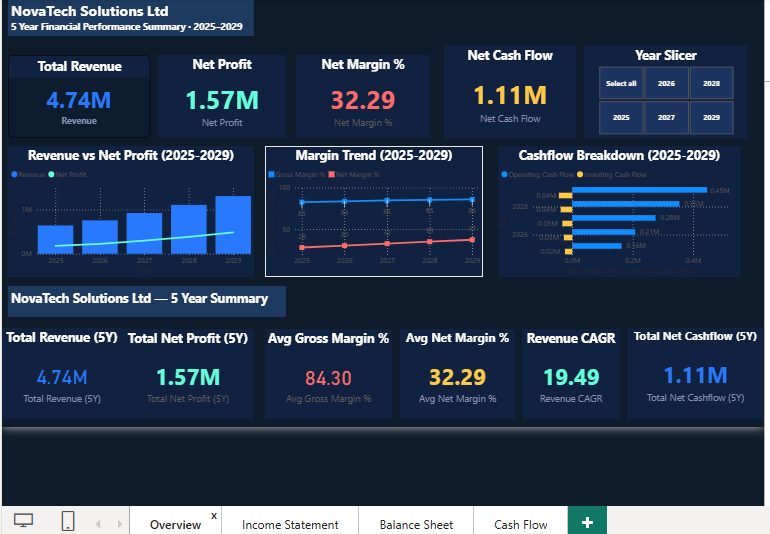

This screenshot's page, from the dashboard's own definition file:
{"tool":"powerbi","page":{"name":"Overview","canvas":[1280,720],"ordinal":0},"visuals":[{"type":"textbox","box":[10.1,0,413.2,63.8],"z":0},{"type":"card","title":"Total Revenue","fields":{"Values":["NovaTech Solutions Ltd  (FinancialData).Revenue"]},"box":[10,95,200,111.7],"z":1000},{"type":"card","title":"Net Profit","fields":{"Values":["NovaTech Solutions Ltd  (FinancialData).Net Profit"]},"box":[211.7,88.3,200,111.7],"z":2000},{"type":"card","title":"Net Margin %","fields":{"Values":["NovaTech Solutions Ltd  (FinancialData).Net Margin %"]},"box":[425,88.3,200,111.7],"z":3000},{"type":"card","title":"Net Cash Flow","fields":{"Values":["NovaTech Solutions Ltd  (FinancialData).Net Cash Flow"]},"box":[633.3,88.3,200,111.7],"z":4000},{"type":"slicer","title":"Year Slicer","fields":{"Values":["NovaTech Solutions Ltd  (FinancialData).Year"]},"box":[860,58.3,378.3,173.3],"z":5000},{"type":"lineClusteredColumnComboChart","title":"Revenue vs Net Profit (2025-2029)","fields":{"Category":["NovaTech Solutions Ltd  (FinancialData).Year"],"Y":["NovaTech Solutions Ltd  (FinancialData).Revenue"],"Y2":["NovaTech Solutions Ltd  (FinancialData).Net Profit"]},"box":[10.1,248.6,413.2,220.1],"z":6000},{"type":"lineChart","title":"Margin Trend (2025-2029)","fields":{"Category":["NovaTech Solutions Ltd  (FinancialData).Year"],"Y":["NovaTech Solutions Ltd  (FinancialData).Gross Margin %","NovaTech Solutions Ltd  (FinancialData).Net Margin %"]},"box":[441.8,248.6,366.2,220.1],"z":7000},{"type":"clusteredBarChart","title":"Cashflow Breakdown (2025-2029)","fields":{"Category":["NovaTech Solutions Ltd  (FinancialData).Year"],"Y":["NovaTech Solutions Ltd  (FinancialData).Operating Cash Flow","NovaTech Solutions Ltd  (FinancialData).Investing Cash Flow"]},"box":[833.2,248.6,408.2,220.1],"z":8000},{"type":"card","title":"Total Revenue (5Y)","fields":{"Values":["NovaTech Solutions Ltd  (FinancialData).Total Revenue (5Y)"]},"box":[0,554.3,201.6,152.9],"z":9000},{"type":"textbox","box":[10.1,483.8,467,52.1],"z":10000},{"type":"card","title":"Total Net Profit (5Y)","fields":{"Values":["NovaTech Solutions Ltd  (FinancialData).Total Net Profit (5Y)"]},"box":[201.6,556,221.7,151.2],"z":11000},{"type":"card","title":"Avg Gross Margin %","fields":{"Values":["NovaTech Solutions Ltd  (FinancialData).Avg Gross Margin %"]},"box":[441.8,556,213.3,151.2],"z":12000},{"type":"card","title":"Avg Net Margin %","fields":{"Values":["NovaTech Solutions Ltd  (FinancialData).Avg Net Margin %"]},"box":[668.6,556,193.2,151.2],"z":13000},{"type":"card","title":"Revenue CAGR","fields":{"Values":["NovaTech Solutions Ltd  (FinancialData).Revenue CAGR"]},"box":[873.5,556,164.6,151.2],"z":14000},{"type":"card","title":"Total Net Cashflow (5Y)","fields":{"Values":["NovaTech Solutions Ltd  (FinancialData).Total Net Cashflow (5Y)"]},"box":[1049.9,554.3,230.1,152.9],"z":15000}]}

Visuals, with their boxes on the page's 1280x720 design canvas (x1, y1, x2, y2). These are canvas units, not pixel positions in the 770x534 screenshot, which may show the page scaled, cropped or inside an application window:
textbox: (x1=10, y1=0, x2=423, y2=64)
"Total Revenue" card: (x1=10, y1=95, x2=210, y2=207)
"Net Profit" card: (x1=212, y1=88, x2=412, y2=200)
"Net Margin %" card: (x1=425, y1=88, x2=625, y2=200)
"Net Cash Flow" card: (x1=633, y1=88, x2=833, y2=200)
"Year Slicer" slicer: (x1=860, y1=58, x2=1238, y2=232)
"Revenue vs Net Profit (2025-2029)" lineClusteredColumnComboChart: (x1=10, y1=249, x2=423, y2=469)
"Margin Trend (2025-2029)" lineChart: (x1=442, y1=249, x2=808, y2=469)
"Cashflow Breakdown (2025-2029)" clusteredBarChart: (x1=833, y1=249, x2=1241, y2=469)
"Total Revenue (5Y)" card: (x1=0, y1=554, x2=202, y2=707)
textbox: (x1=10, y1=484, x2=477, y2=536)
"Total Net Profit (5Y)" card: (x1=202, y1=556, x2=423, y2=707)
"Avg Gross Margin %" card: (x1=442, y1=556, x2=655, y2=707)
"Avg Net Margin %" card: (x1=669, y1=556, x2=862, y2=707)
"Revenue CAGR" card: (x1=874, y1=556, x2=1038, y2=707)
"Total Net Cashflow (5Y)" card: (x1=1050, y1=554, x2=1280, y2=707)
